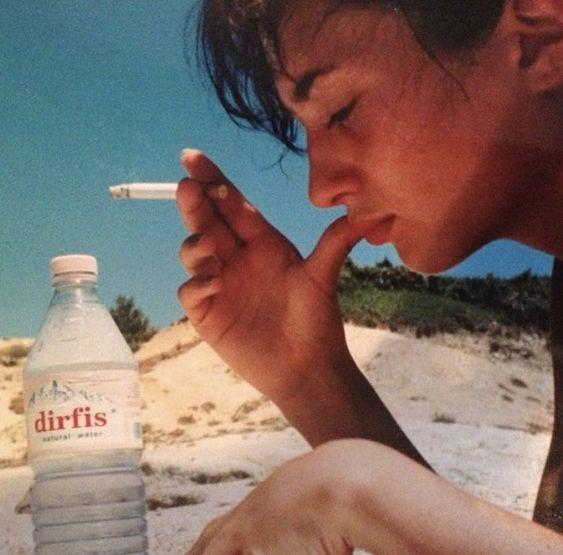cigarette: (107, 184, 230, 200)
